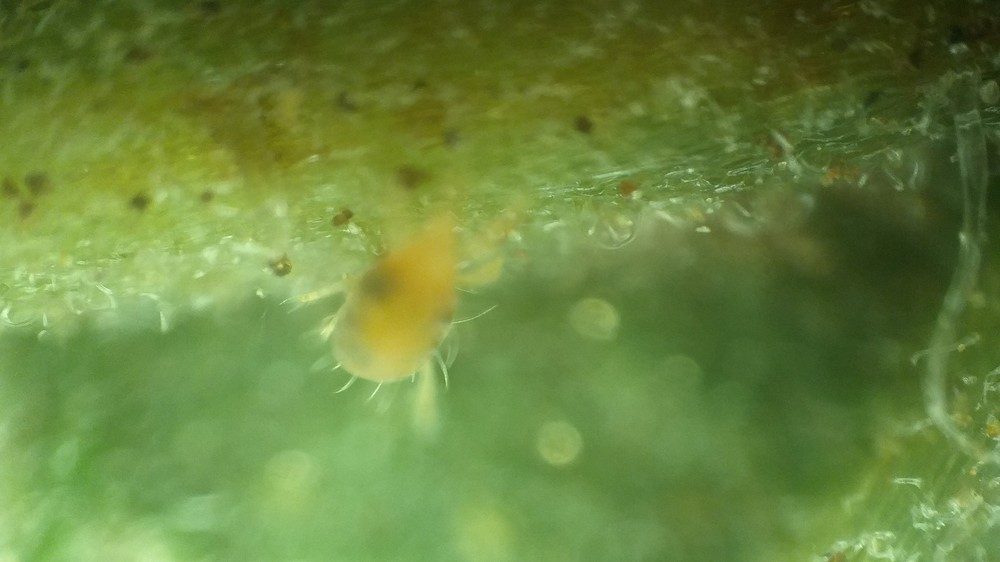Aracnido Rojo: (279, 166, 550, 421)
